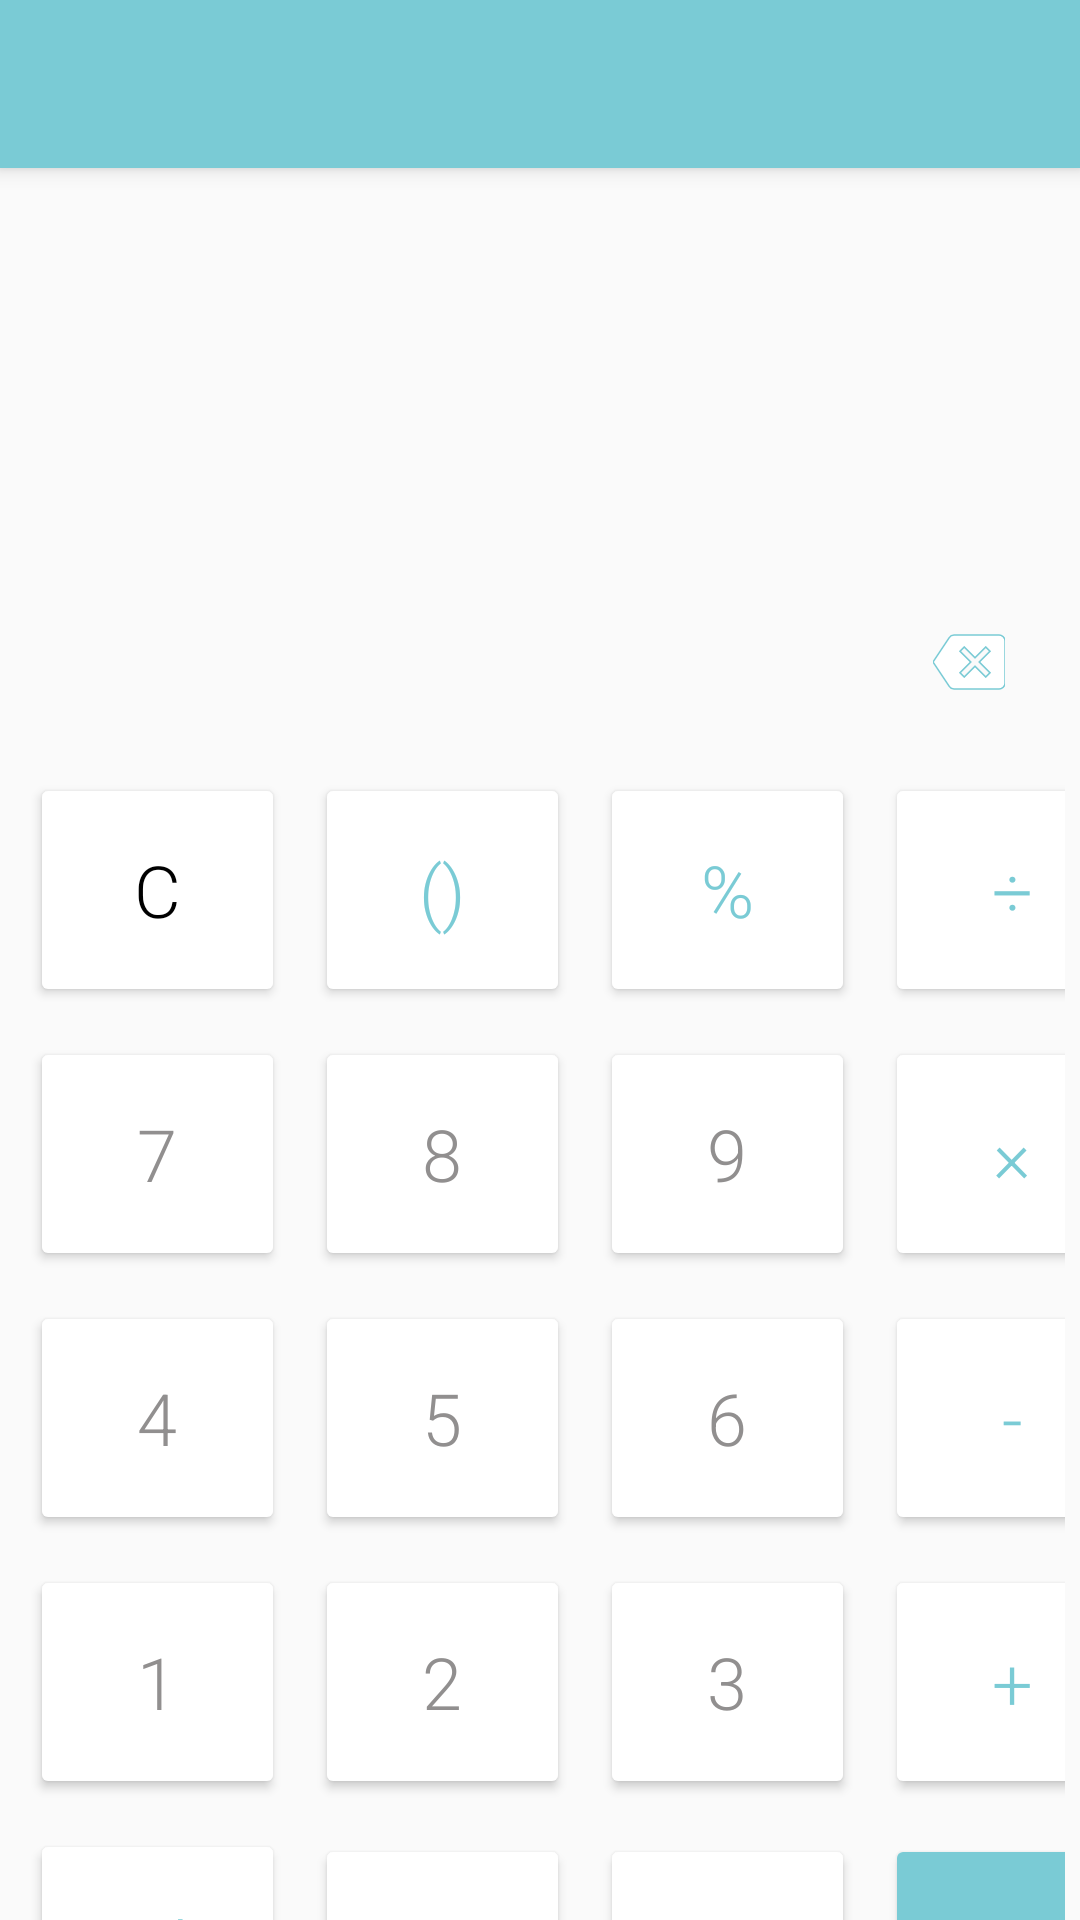

Icons on this 1080x1920 Android screen, each with the point to tap as point (x, y):
backspace: point (969, 662)
